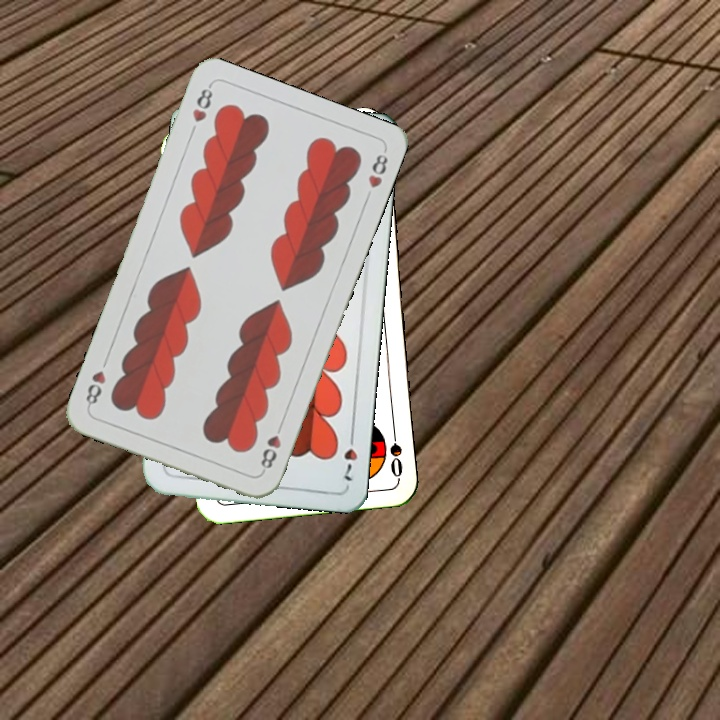H7: (339, 427, 360, 484)
H8: (256, 418, 286, 475), (188, 81, 216, 125)
SO: (385, 421, 405, 480)
